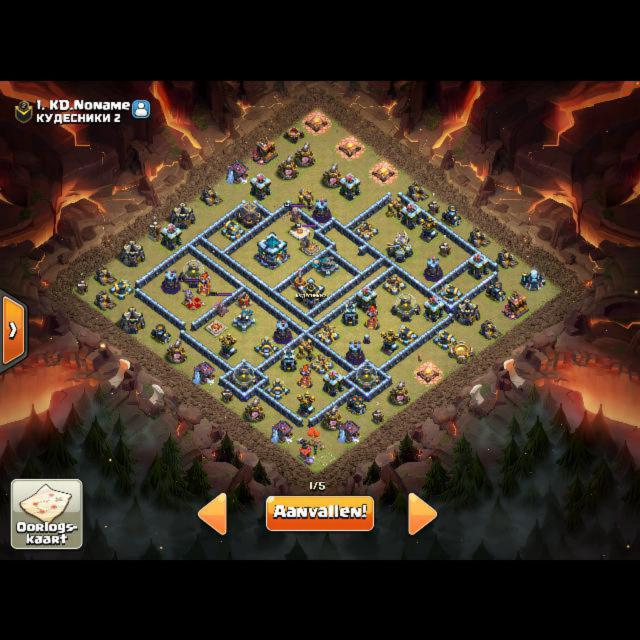AD: (296, 391, 315, 418), (218, 331, 236, 359), (380, 328, 398, 355), (419, 215, 437, 242)
AirSweeper: (291, 269, 309, 291), (235, 291, 253, 309)
BombTower: (343, 299, 358, 325), (281, 346, 296, 371)
Canon: (254, 335, 279, 357), (265, 377, 290, 399), (394, 323, 418, 345), (432, 329, 457, 350), (438, 283, 463, 304), (221, 219, 245, 240), (109, 278, 133, 299)
ClanCastle: (298, 276, 325, 308)
Eagle: (387, 229, 413, 262)
Inferno: (365, 305, 380, 330), (197, 271, 212, 296), (298, 364, 313, 388)
KingPad: (206, 319, 227, 335)
Mortar: (441, 204, 462, 226), (485, 280, 506, 302), (150, 323, 170, 344), (346, 395, 367, 415)
QueenPad: (183, 294, 206, 311)
RcPad: (302, 241, 320, 254)
Scattershot: (312, 255, 339, 277), (232, 307, 255, 332)
TH13: (257, 230, 288, 268)
WardenPad: (290, 223, 310, 238)
WizzTower: (273, 319, 291, 344), (346, 340, 364, 365), (312, 197, 330, 222), (424, 256, 442, 281), (161, 269, 179, 293)
Xbow: (315, 321, 339, 345), (354, 220, 379, 241), (310, 353, 334, 374), (382, 274, 406, 295)
